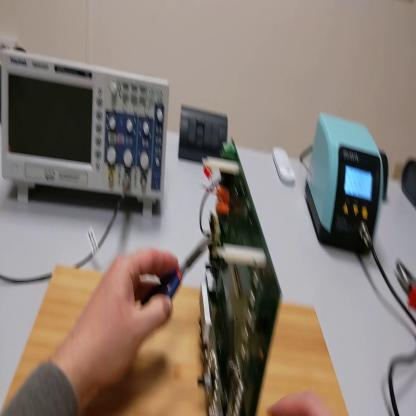hand: (77, 248, 179, 391), (267, 390, 338, 415)
low voltage board: (199, 145, 286, 416)
oscilloscope: (4, 50, 169, 229)
pliers: (166, 237, 211, 302), (397, 260, 416, 311)
socket: (404, 157, 415, 209), (379, 149, 388, 203)
welder station: (305, 116, 383, 254)
working area: (3, 263, 353, 416)
